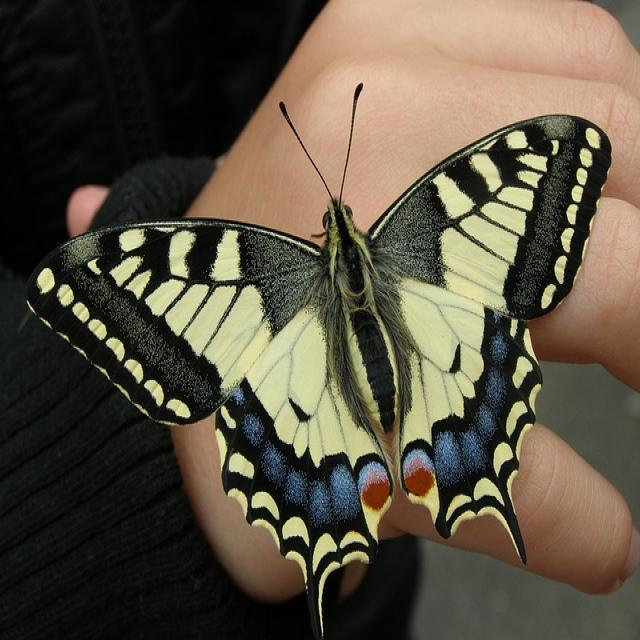butterfly: (28, 115, 610, 634)
